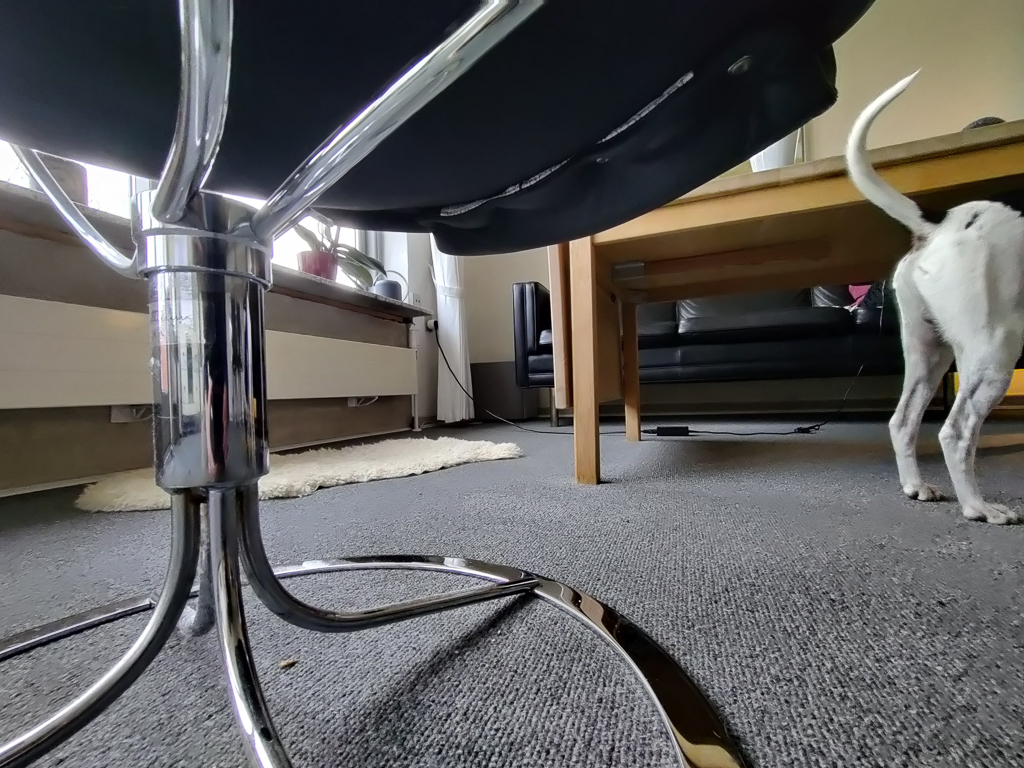Dog: (840, 64, 1024, 536)
